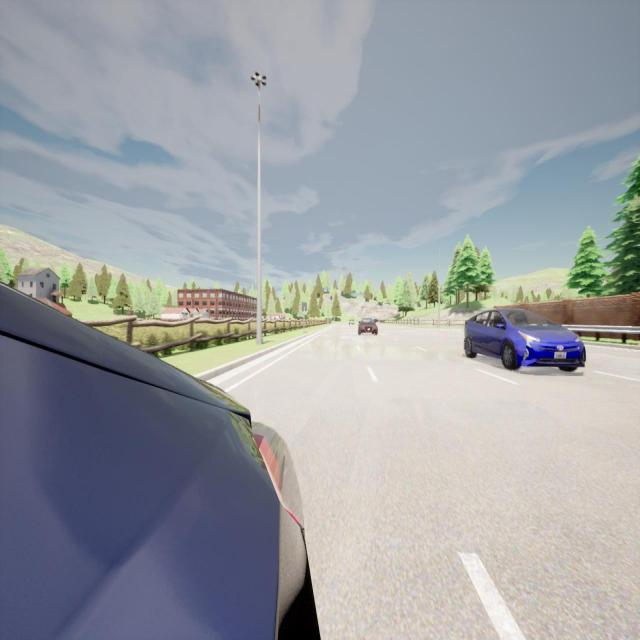Traffic_Signs: (302, 302, 308, 312)
Vehicle: (0, 284, 318, 638), (464, 308, 586, 372), (358, 316, 379, 336), (349, 318, 355, 325)
